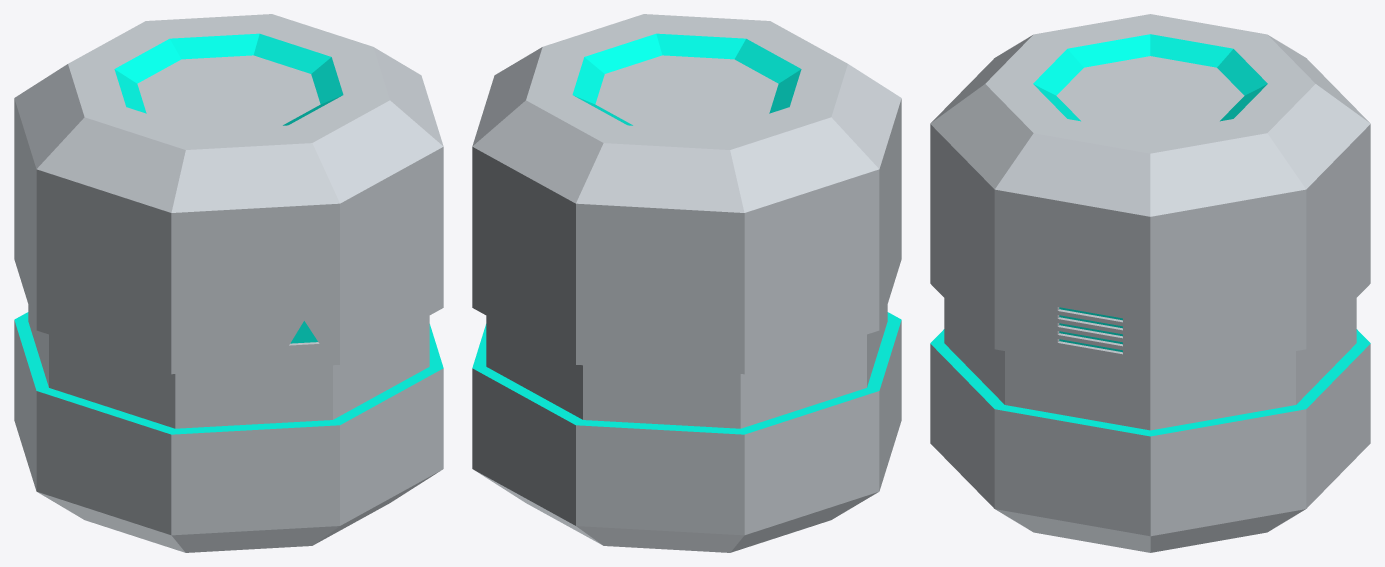
3 renders of one model, left to right at view 1: azimuth 30°, elevation 25°; view 2: azimuth 150°, elevation 25°; view 3: azimuth 270°, elevation 25°, orthographic.
Visible parts, largest first — view 1: cylinder-01; view 2: cylinder-01; view 3: cylinder-01.
Boxes of the visible parts, x1=… form: cylinder-01: x1=14, y1=14, x2=443, y2=552; cylinder-01: x1=472, y1=14, x2=901, y2=552; cylinder-01: x1=930, y1=14, x2=1370, y2=552.
Bounding box in the file's own units: 100 × 100 × 100.
